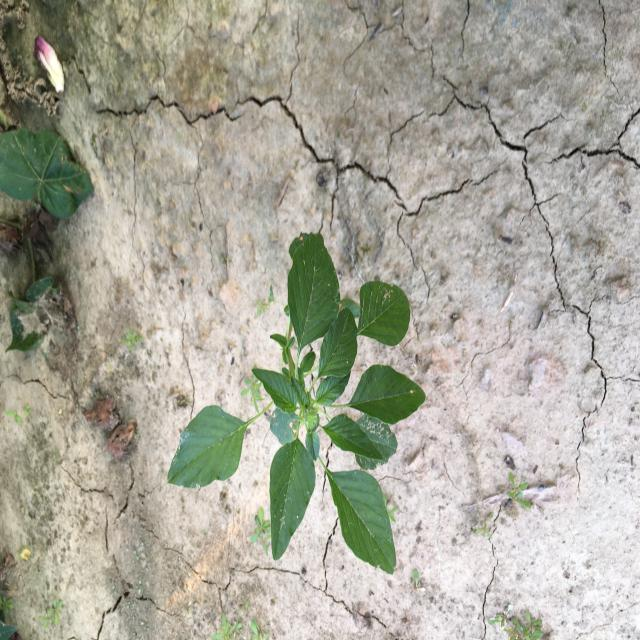Carpetweed: (504, 471, 532, 511)
PalmerAmaranth: (165, 230, 428, 578)
